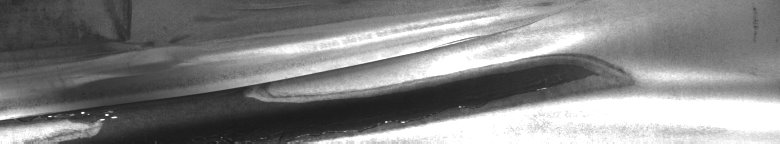ke: (4, 4, 756, 136)
